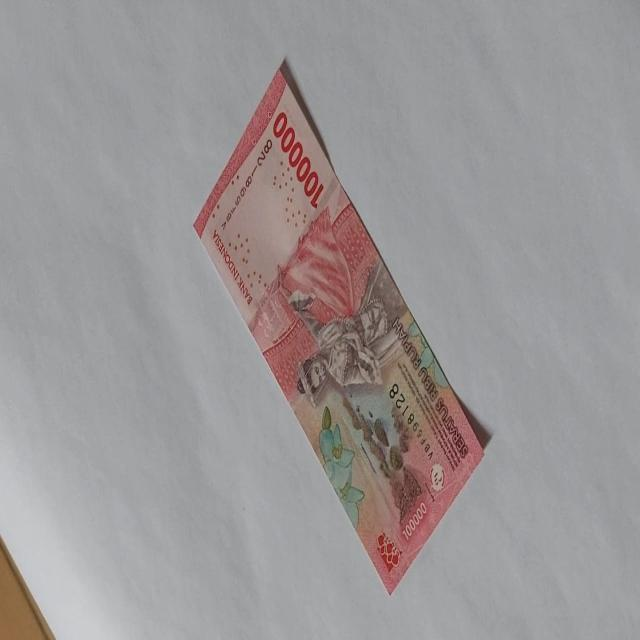Kertas: (193, 57, 487, 595), (272, 109, 324, 210)
